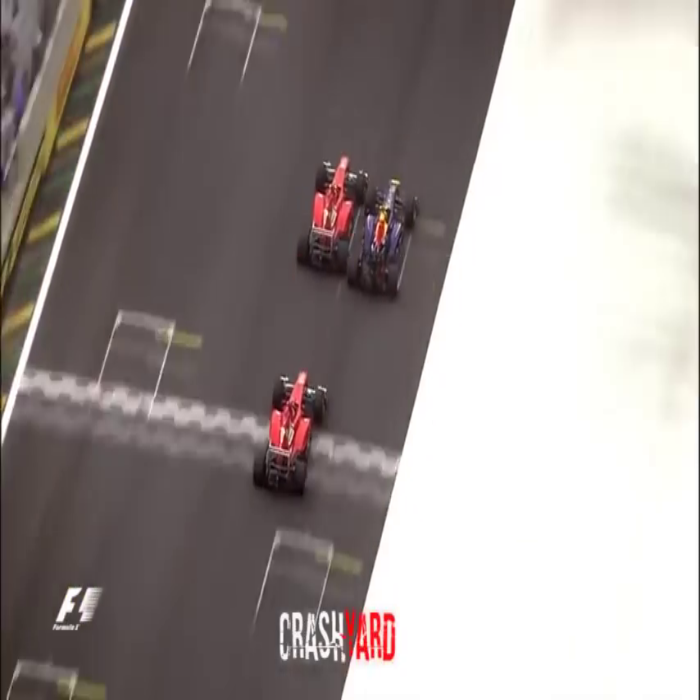f1_car: (244, 353, 341, 498), (349, 171, 425, 304), (298, 141, 364, 273)
